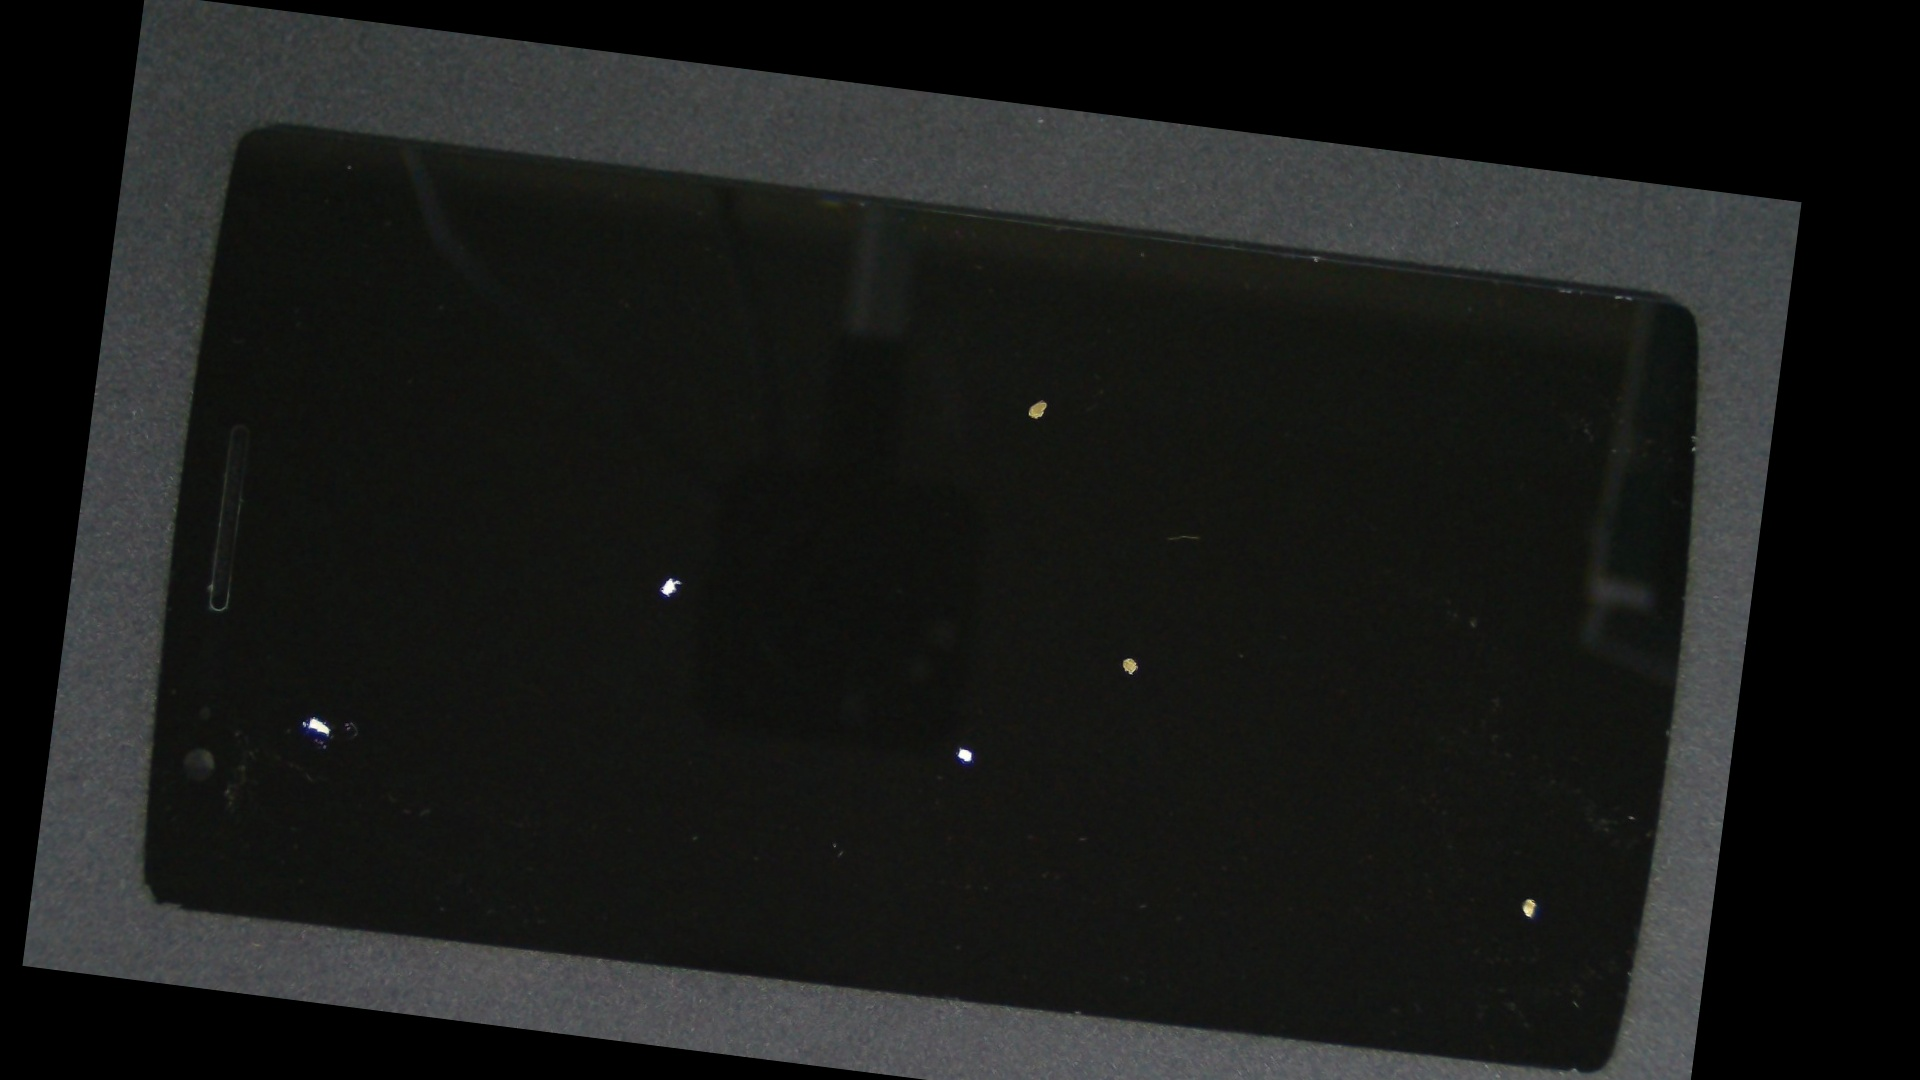oil: (571, 323, 1687, 988), (472, 369, 1447, 1080), (762, 444, 1756, 1080), (560, 196, 1535, 604), (344, 284, 996, 869), (148, 352, 479, 1013)
